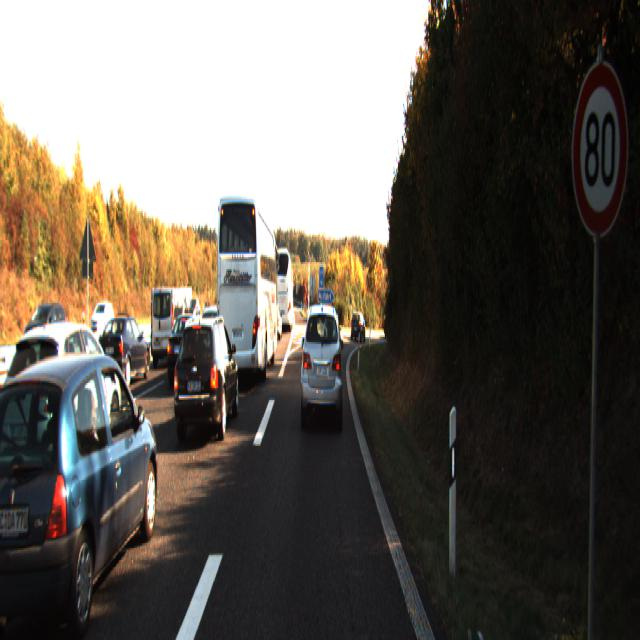Car: (0, 340, 162, 639), (0, 316, 125, 496), (215, 190, 278, 390), (170, 313, 239, 448), (300, 300, 344, 432), (96, 313, 152, 390), (150, 282, 190, 362), (274, 250, 294, 334), (351, 312, 366, 342)
